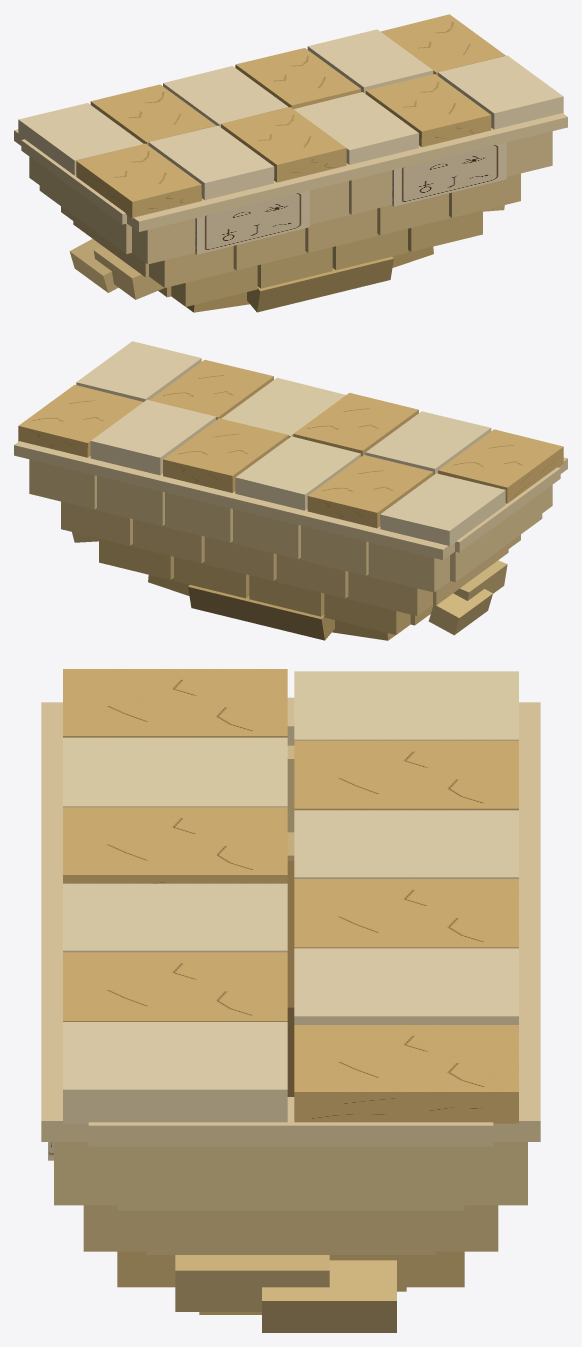
The model's file is platform.glb.
3 renders of one model, top to bottom at view 1: azimuth 30°, elevation 25°; view 2: azimuth 150°, elevation 25°; view 3: azimuth 270°, elevation 25°, orthographic. The views are drawn at different scales.
Visible parts, largest first — view 1: coping_front, top_flagstone_5_1, top_flagstone_3_1, top_flagstone_4_1, top_flagstone_0_1, top_flagstone_1_1, top_flagstone_2_1, top_flagstone_5_0, top_flagstone_1_0, top_flagstone_2_0, stele_plaque_right, stele_plaque_left (+24 smaller); view 2: coping_back, top_flagstone_5_0, top_flagstone_1_0, top_flagstone_2_0, top_flagstone_3_0, top_flagstone_4_0, top_flagstone_5_1, top_flagstone_0_0, top_flagstone_3_1, top_flagstone_0_1, top_flagstone_4_1, top_flagstone_1_1 (+24 smaller); view 3: top_flagstone_0_1, course1_side_l, top_flagstone_0_0, top_flagstone_1_0, top_flagstone_3_1, top_flagstone_4_0, top_flagstone_4_1, top_flagstone_2_0, top_flagstone_5_0, top_flagstone_1_1, top_flagstone_2_1, top_flagstone_3_0 (+14 smaller).
Part boxes in pixels (x1,y1,x2,y2): coping_front: (127,113,567,231); top_flagstone_5_1: (76,143,201,218); top_flagstone_3_1: (221,107,346,182); top_flagstone_4_1: (148,125,274,200); top_flagstone_0_1: (438,55,563,129); top_flagstone_1_1: (365,74,491,147); top_flagstone_2_1: (294,92,418,164); top_flagstone_5_0: (18,103,143,175); top_flagstone_1_0: (307,29,433,93); top_flagstone_2_0: (235,48,360,108); stele_plaque_right: (195,190,309,254); stele_plaque_left: (392,142,506,206); coping_back: (14,441,454,559); top_flagstone_5_0: (380,473,505,546); top_flagstone_1_0: (90,400,216,475); top_flagstone_2_0: (163,418,288,492); top_flagstone_3_0: (235,436,360,510); top_flagstone_4_0: (307,455,433,528); top_flagstone_5_1: (438,429,563,503); top_flagstone_0_0: (18,384,143,457); top_flagstone_3_1: (293,393,418,456); top_flagstone_0_1: (76,341,201,401); top_flagstone_4_1: (365,411,491,475); top_flagstone_1_1: (149,360,273,419); top_flagstone_0_1: (63,1022,287,1123); course1_side_l: (117,1146,464,1210); top_flagstone_0_0: (294,1025,518,1123); top_flagstone_1_0: (294,948,518,1024); top_flagstone_3_1: (63,807,287,883); top_flagstone_4_0: (294,740,518,810); top_flagstone_4_1: (63,737,287,807); top_flagstone_2_0: (294,879,518,948); top_flagstone_5_0: (294,671,518,740); top_flagstone_1_1: (63,952,287,1021); top_flagstone_2_1: (63,883,287,952); top_flagstone_3_0: (294,810,518,878).
Bounding box in the file's own units: 5.25 × 1.92 × 2.59.
Materials: 11 (3 with a texture image).
